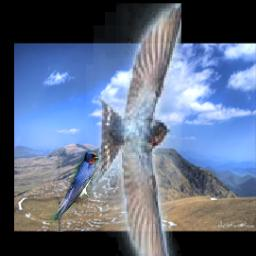Swallow: (87, 3, 182, 256), (36, 151, 99, 232)
